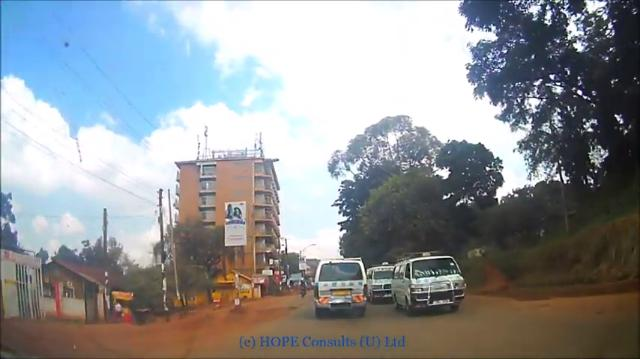van: (393, 251, 467, 315), (311, 256, 366, 318), (366, 265, 391, 305)
